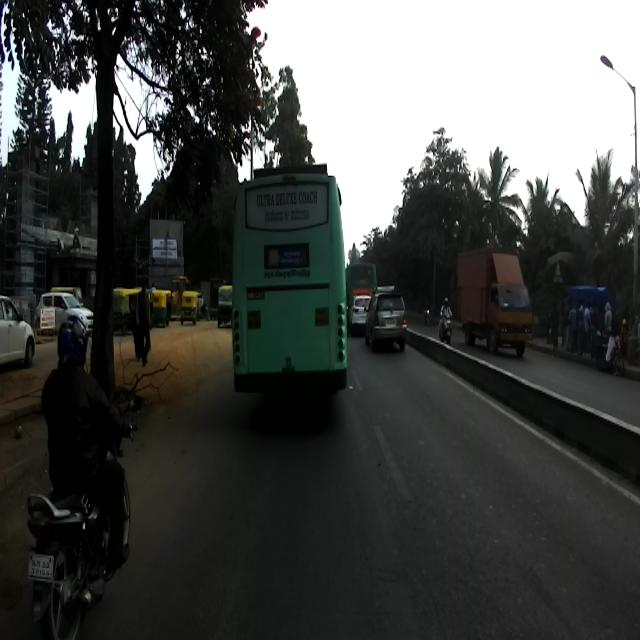bus ahead at: (236, 168, 347, 394)
car ahead at: (367, 285, 408, 346)
motorcycle ahead at: (27, 485, 140, 634)
